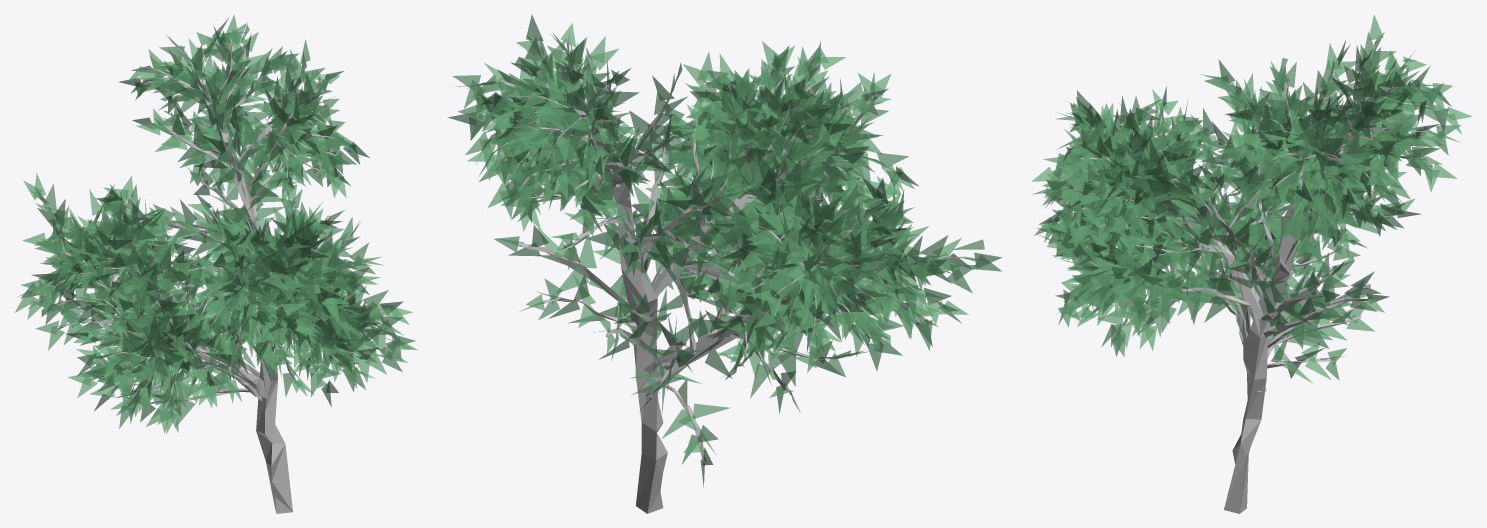
Rendered from BirchTree.fbx.
3 views of the same model, side by side, from view 1: azimuth 30°, elevation 25°; view 2: azimuth 150°, elevation 25°; view 3: azimuth 270°, elevation 25° (orthographic). The views are drawn at different scales.
Visible parts, largest first — view 1: birchBlowing1Leaf, birchBlowing1Main; view 2: birchBlowing1Leaf, birchBlowing1Main; view 3: birchBlowing1Leaf, birchBlowing1Main.
Part boxes in pixels (x1=…): birchBlowing1Leaf: x1=14, y1=14, x2=418, y2=433; birchBlowing1Main: x1=30, y1=35, x2=391, y2=513; birchBlowing1Leaf: x1=447, y1=14, x2=1002, y2=487; birchBlowing1Main: x1=477, y1=36, x2=968, y2=513; birchBlowing1Leaf: x1=1031, y1=14, x2=1472, y2=383; birchBlowing1Main: x1=1053, y1=35, x2=1451, y2=513.
Size of the model in its own units: 29.47 by 35.24 by 29.92.
